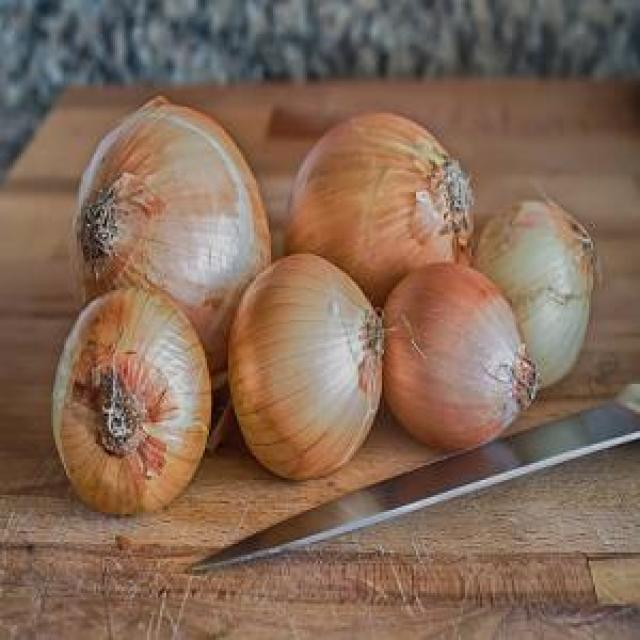knife: (181, 375, 638, 576)
